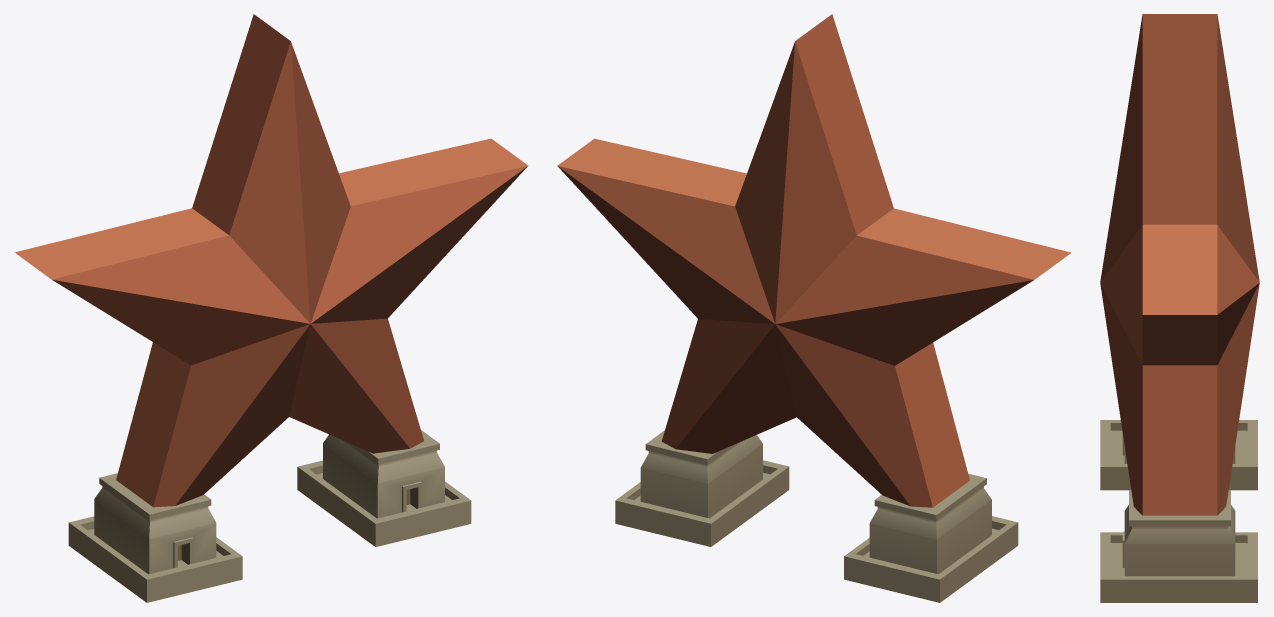
File: The_Lone_Star.fbx
The picture shows the model from 3 angles, left to right: view 1: azimuth 30°, elevation 25°; view 2: azimuth 150°, elevation 25°; view 3: azimuth 270°, elevation 25°; orthographic projection.
Parts seen in each view (by area): view 1: The_Lone_Star; view 2: The_Lone_Star; view 3: The_Lone_Star.
Part boxes in pixels (bbox=[...]): The_Lone_Star: bbox=[15, 14, 528, 602]; The_Lone_Star: bbox=[557, 14, 1071, 602]; The_Lone_Star: bbox=[1100, 14, 1259, 602].
Bounding box in the file's own units: 637 × 646 × 183.
